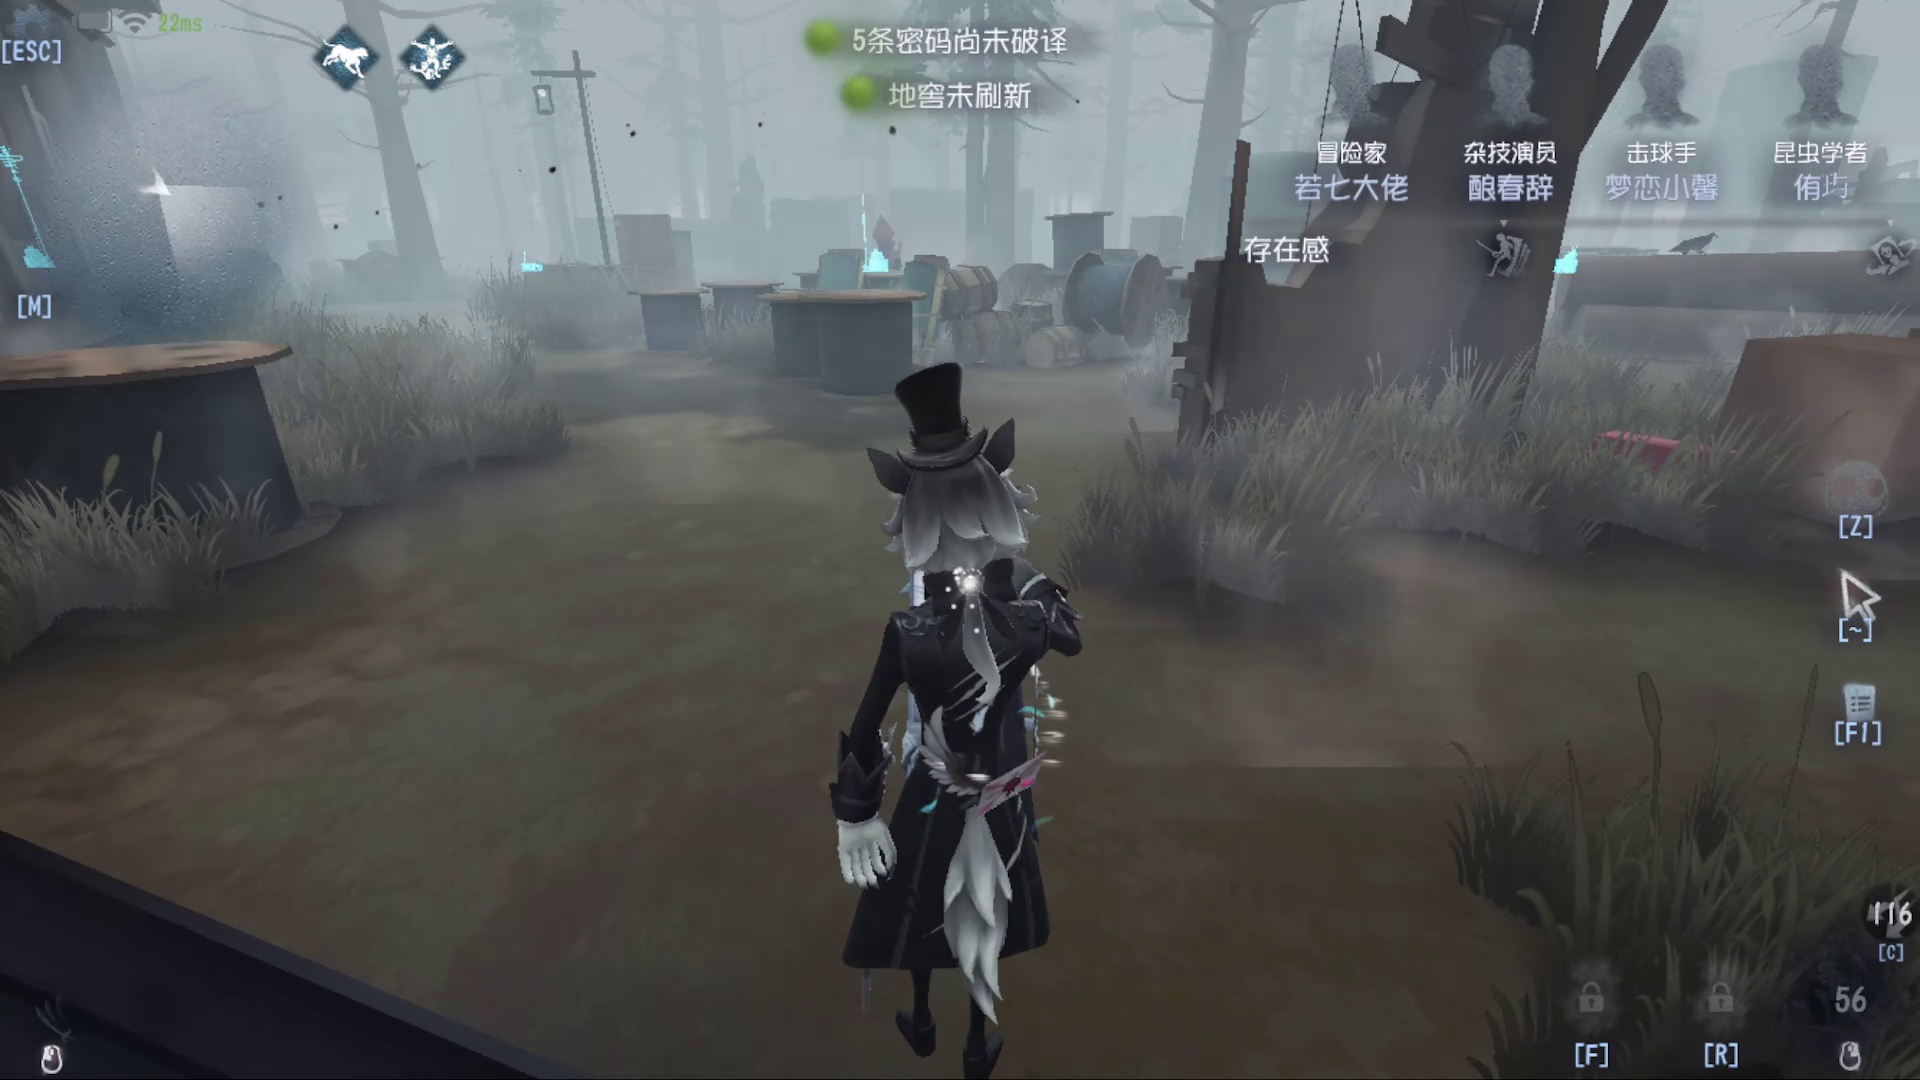密码机: (475, 84, 560, 286), (1, 135, 63, 280), (845, 123, 899, 282)
木板: (893, 251, 953, 373), (812, 239, 870, 295)
